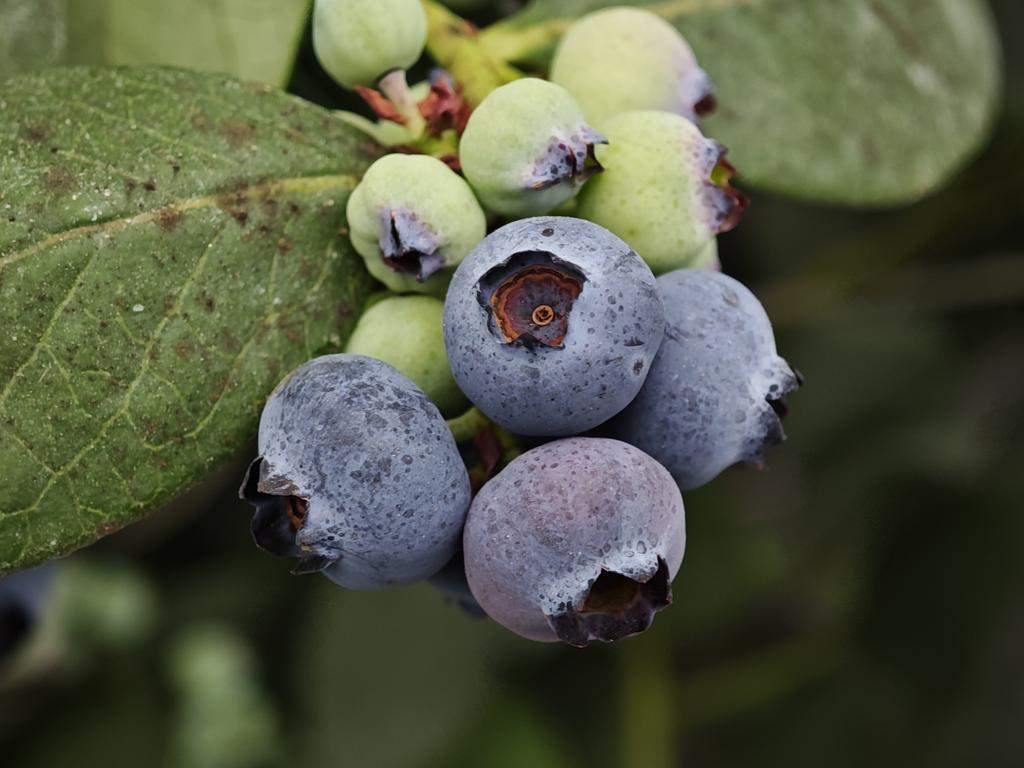RipeBlueBerry: (254, 354, 470, 590), (463, 441, 697, 649), (443, 217, 666, 431)
UnripeBlueBerry: (464, 74, 594, 216)
